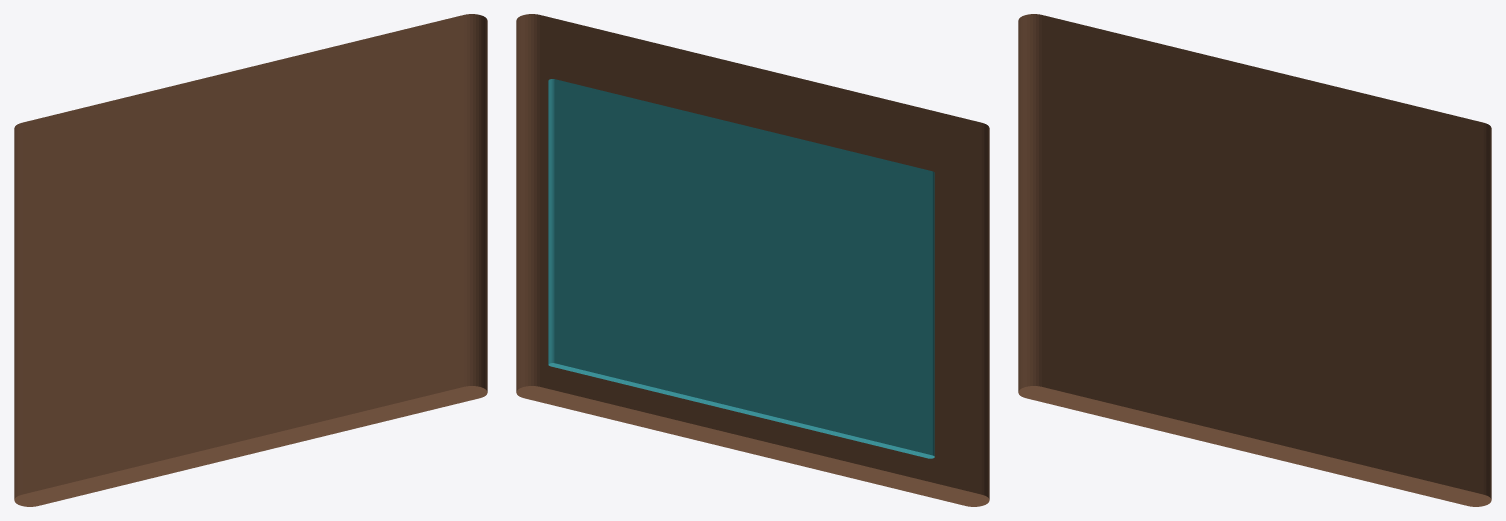
Rendered from wall_frame.glb.
3 renders of one model, left to right at view 1: azimuth 30°, elevation 25°; view 2: azimuth 150°, elevation 25°; view 3: azimuth 330°, elevation 25°, orthographic.
Parts seen in each view (by area): view 1: Frame; view 2: Art, Frame; view 3: Frame.
Boxes of the visible parts, bbox=[...] form: Frame: bbox=[14, 14, 487, 506]; Art: bbox=[548, 79, 934, 458]; Frame: bbox=[516, 14, 989, 506]; Frame: bbox=[1018, 14, 1491, 506].
Bounding box in the file's own units: 0.95 × 0.72 × 0.075.
